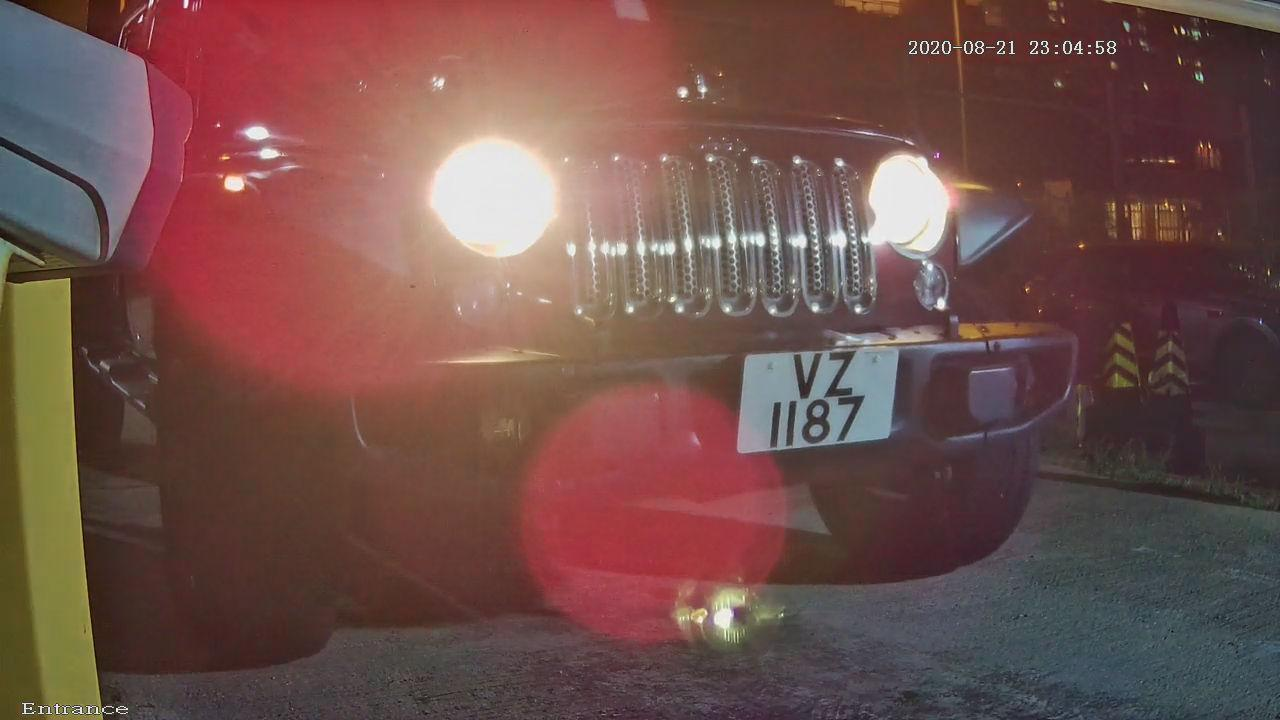Car: (58, 4, 1195, 650)
License Plate: (709, 306, 915, 476)
